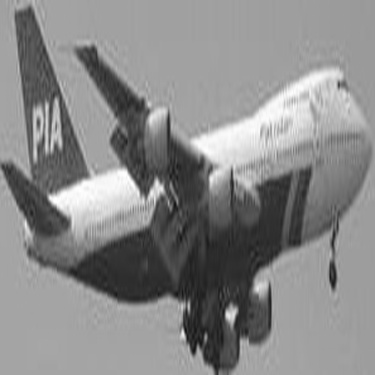airplane: (1, 13, 371, 372)
